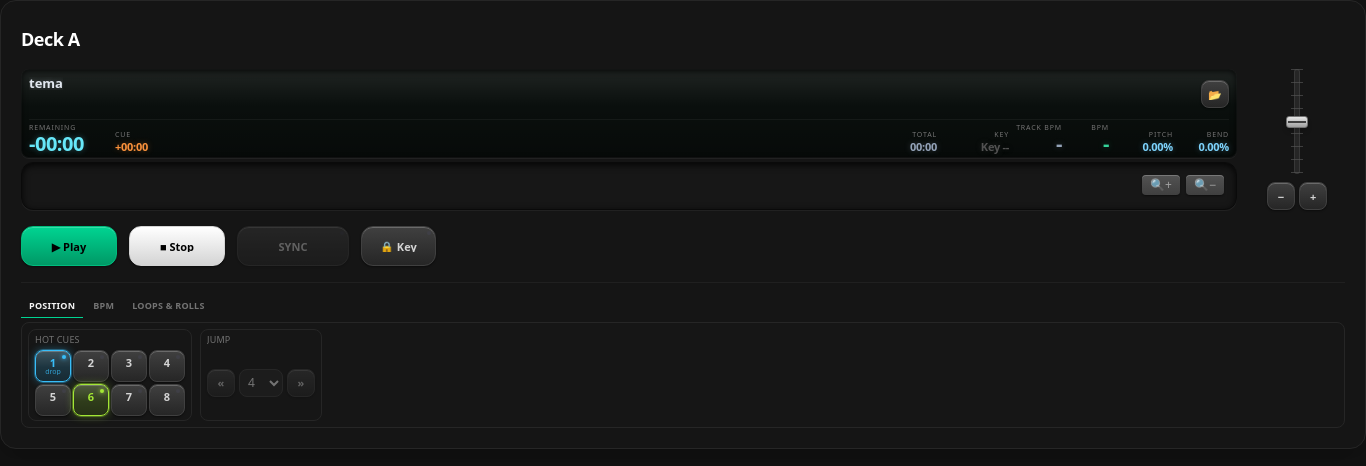
Test: restaurar lo guardado al volver a cargar la pista › el loop de la pista vuelve marcado pero APAGADO
This screenshot has width=1366, height=466.
What coordinates should you click on to do the following:
click the tab "Loops & rolls"
I would click on:
 (168, 307)
Its box is [124,295,213,318].
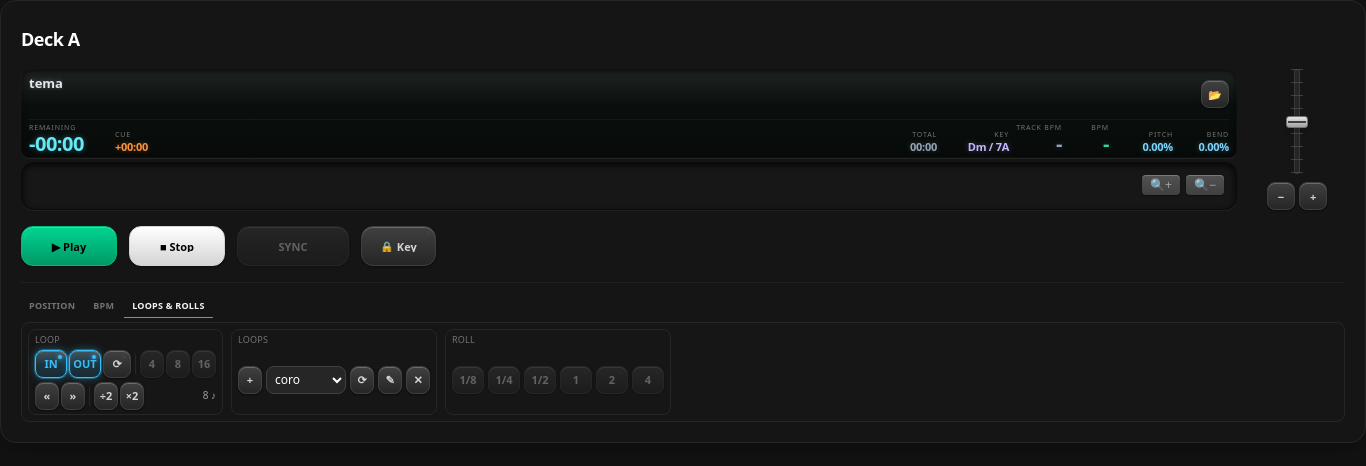
Now the 1st button titled "Turns the marked loop on/off" is enabled, box [103,350,131,378]
